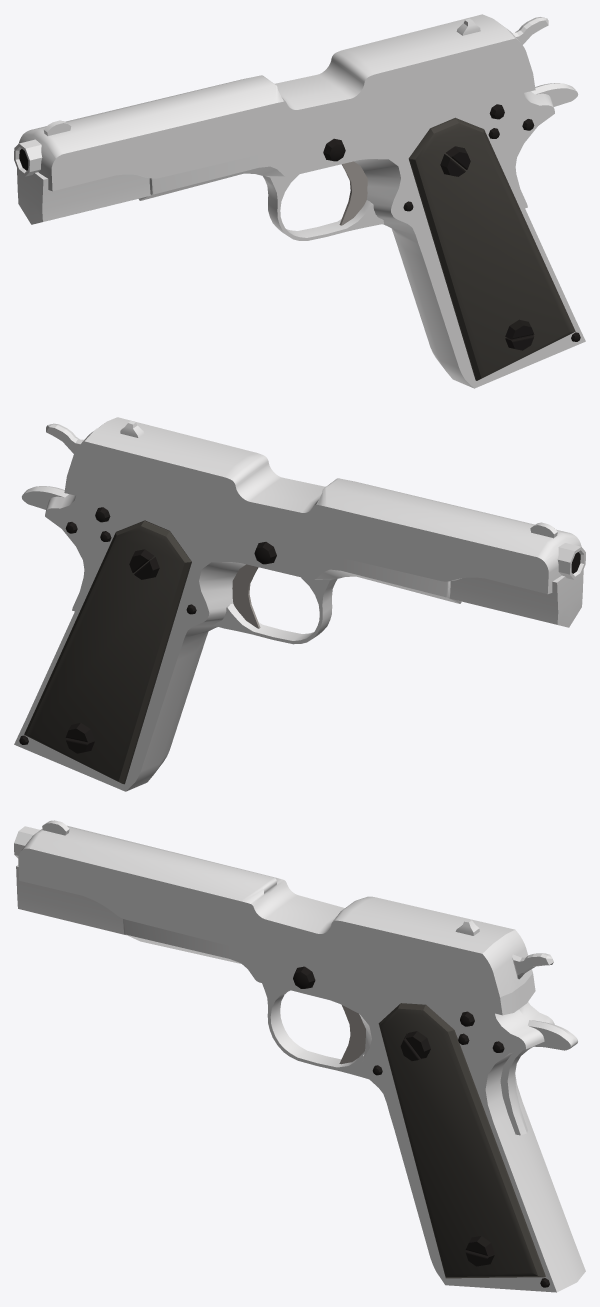
Rendered from Gun.fbx.
3 renders of one model, top to bottom at view 1: azimuth 30°, elevation 25°; view 2: azimuth 150°, elevation 25°; view 3: azimuth 330°, elevation 25°, orthographic.
Visible parts, largest first — view 1: Pistol_1; view 2: Pistol_1; view 3: Pistol_1.
Boxes of the visible parts, box(x1,y1,x2,y2) form: Pistol_1: box(14, 14, 585, 388); Pistol_1: box(14, 417, 585, 791); Pistol_1: box(14, 820, 585, 1292).
Size of the model in its own units: 4745 by 2909 by 689.
